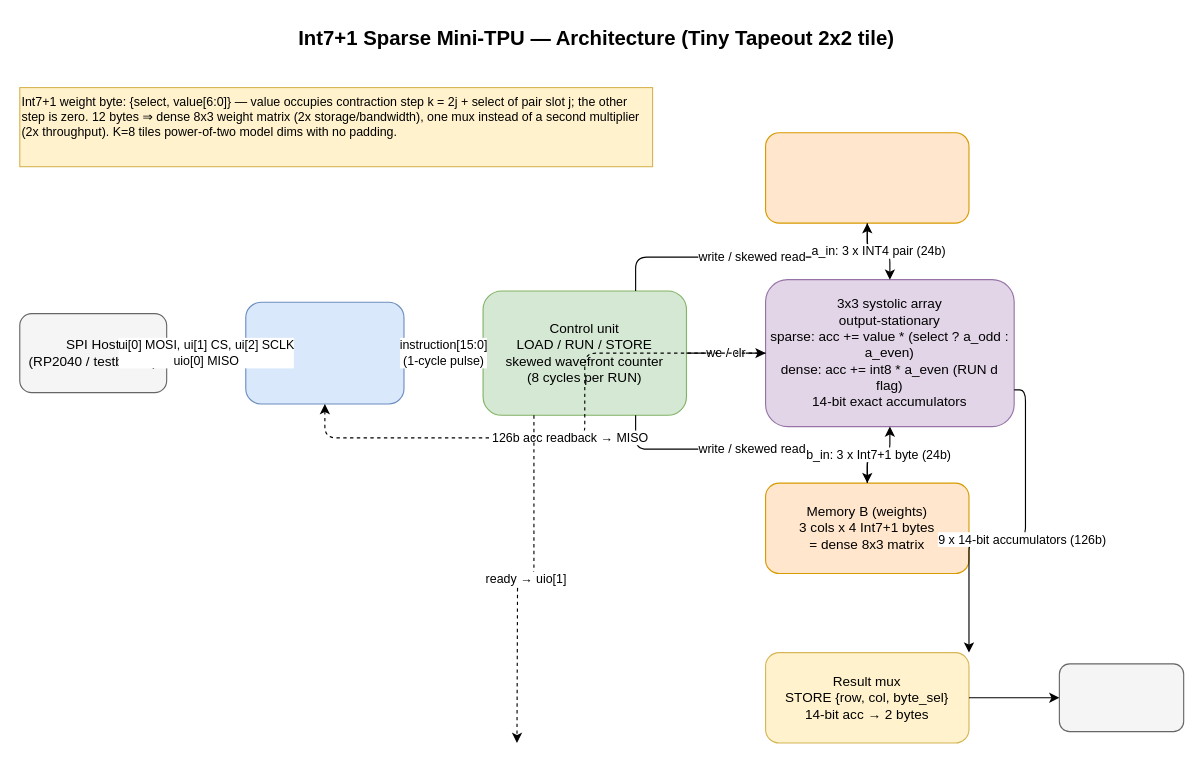
The diagram is 1203 pixels wide and 772 high, and some of its shapes have lost their labels. Each missing label, with the centre of its shape:
Memory A (activations) 3 rows x 8 INT4 read as INT4 pairs: point 866,177
SPI slave 16-bit instruction (LSB-first): point 324,352
uo_out[7:0] result byte: point 1121,697
